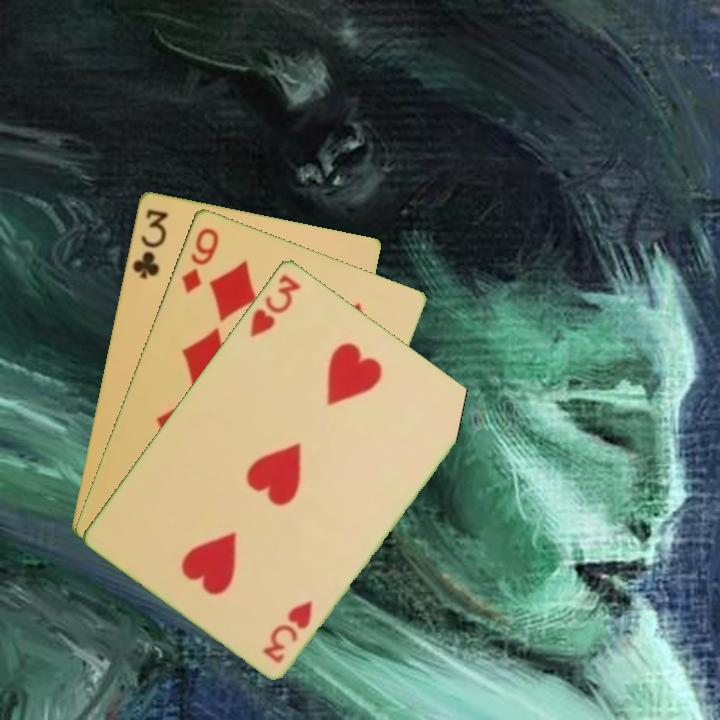3c: (128, 205, 171, 282)
3h: (246, 270, 304, 340), (258, 596, 316, 666)
9d: (177, 223, 222, 296)
